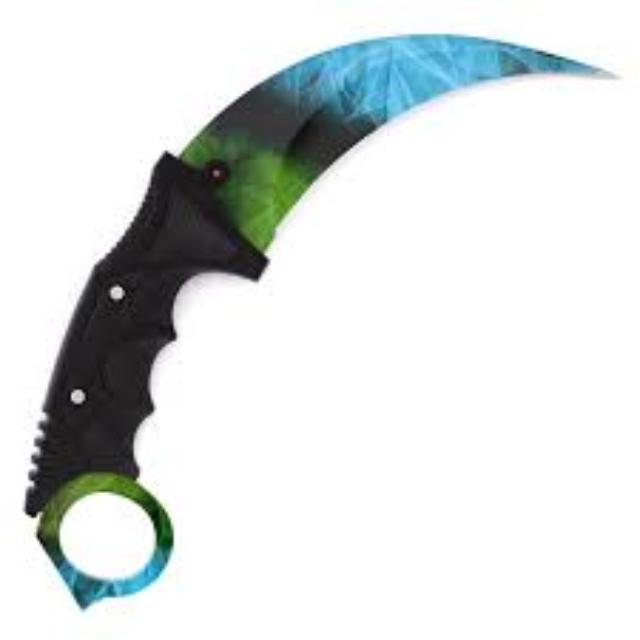knife: (20, 29, 620, 609)
